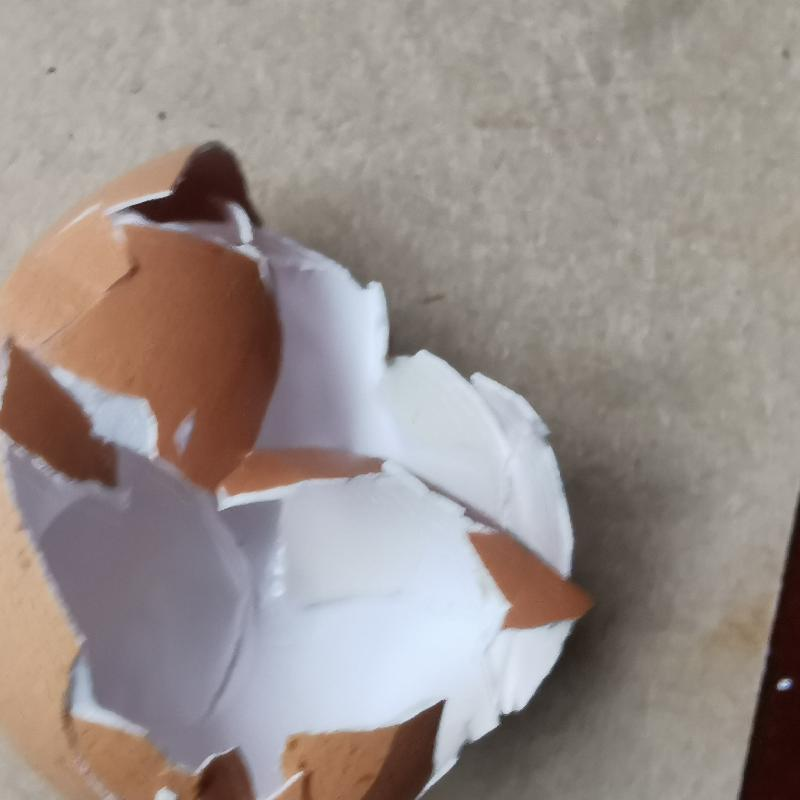eggshell: (9, 142, 586, 800)
